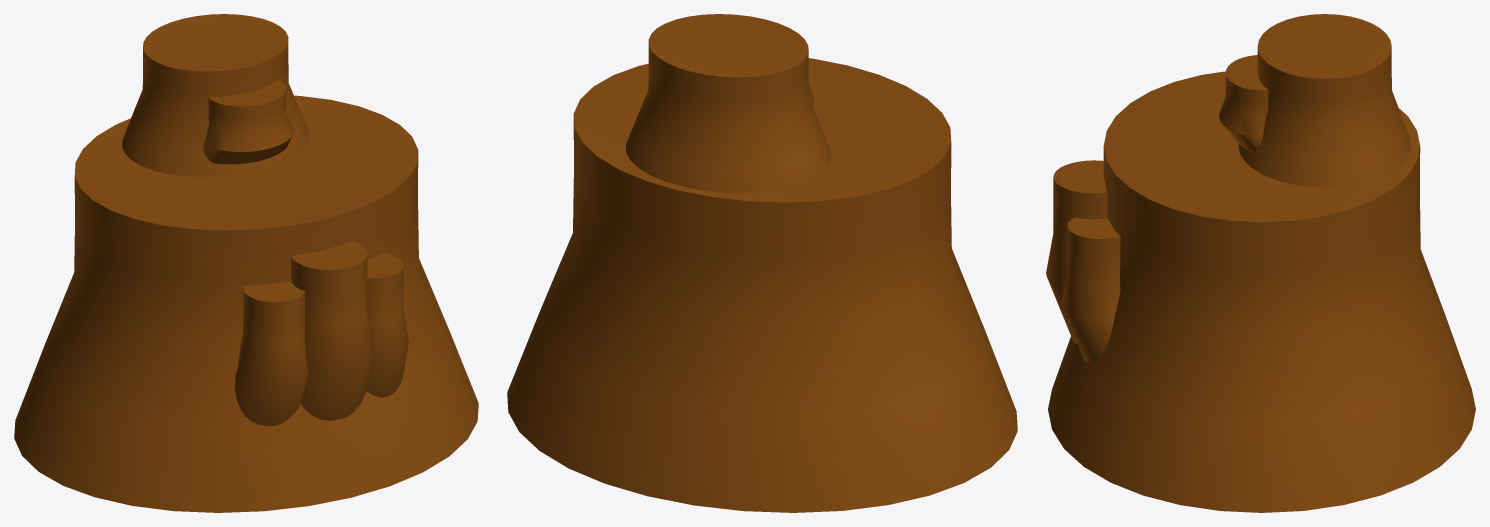
Rendered from Mountain 2.glb.
3 views of the same model, side by side, from view 1: azimuth 30°, elevation 25°; view 2: azimuth 150°, elevation 25°; view 3: azimuth 270°, elevation 25° (orthographic). The views are drawn at different scales.
Parts seen in each view (by area): view 1: Cylinder.002; view 2: Cylinder.002; view 3: Cylinder.002.
Part boxes in pixels (x1,y1,x2,y2): Cylinder.002: [14, 14, 478, 512]; Cylinder.002: [507, 14, 1017, 512]; Cylinder.002: [1046, 14, 1475, 512].
Bounding box in the file's own units: 48.99 × 40.02 × 42.97.
Materials: 1 (1 with a texture image).
